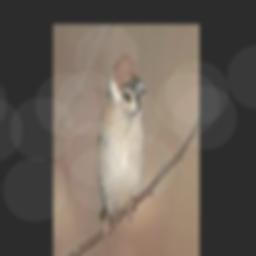Sparrow: (97, 52, 147, 243)
